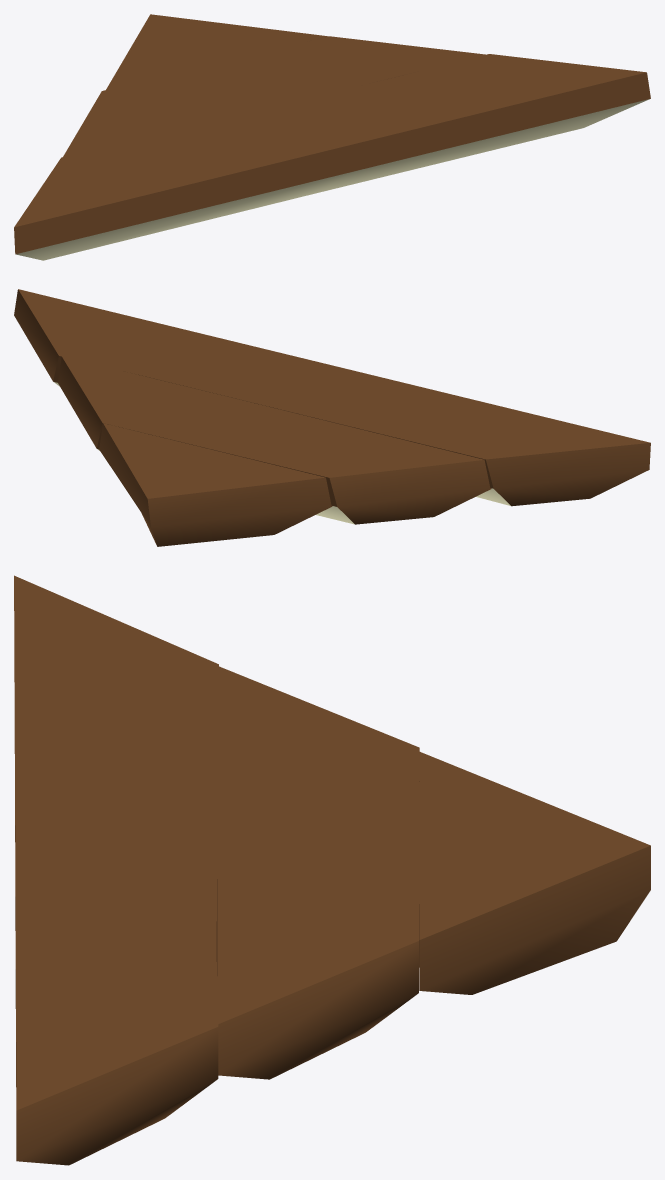
File: rt90_wood_2_birchSplitLogTriFloorSection2.glb
The picture shows the model from 3 angles, top to bottom: view 1: azimuth 30°, elevation 25°; view 2: azimuth 150°, elevation 25°; view 3: azimuth 270°, elevation 25°; orthographic projection. The views are drawn at different scales.
Visible parts, largest first — view 1: inside; view 2: inside; view 3: inside.
Part boxes in pixels (bbox=[...]): inside: bbox=[14, 14, 650, 260]; inside: bbox=[14, 289, 650, 546]; inside: bbox=[14, 575, 650, 1165].
Bounding box in the file's own units: 1.46 × 0.1233 × 0.7319.
